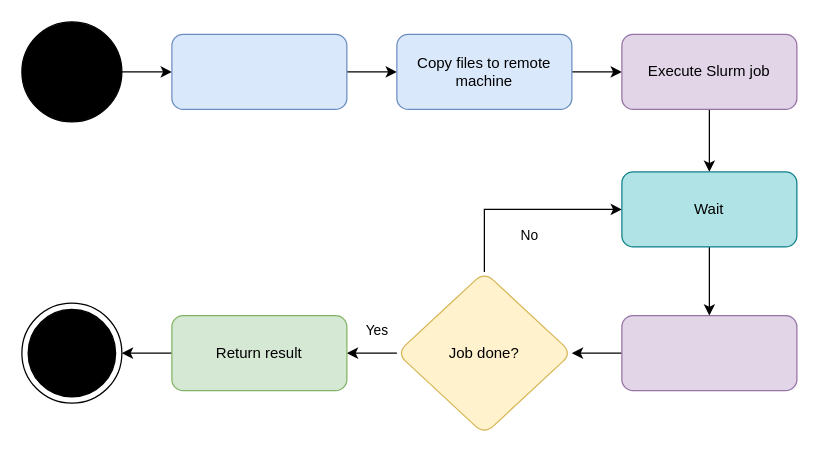
This 819x456 diagram has some shape labels left out. The shapes that lost their labels are listed below. From the top down, each one's centre as x and y in pixels, then its label:
At point 259,71: "Connect vis SSH".
At point 709,352: "Poll job status".
